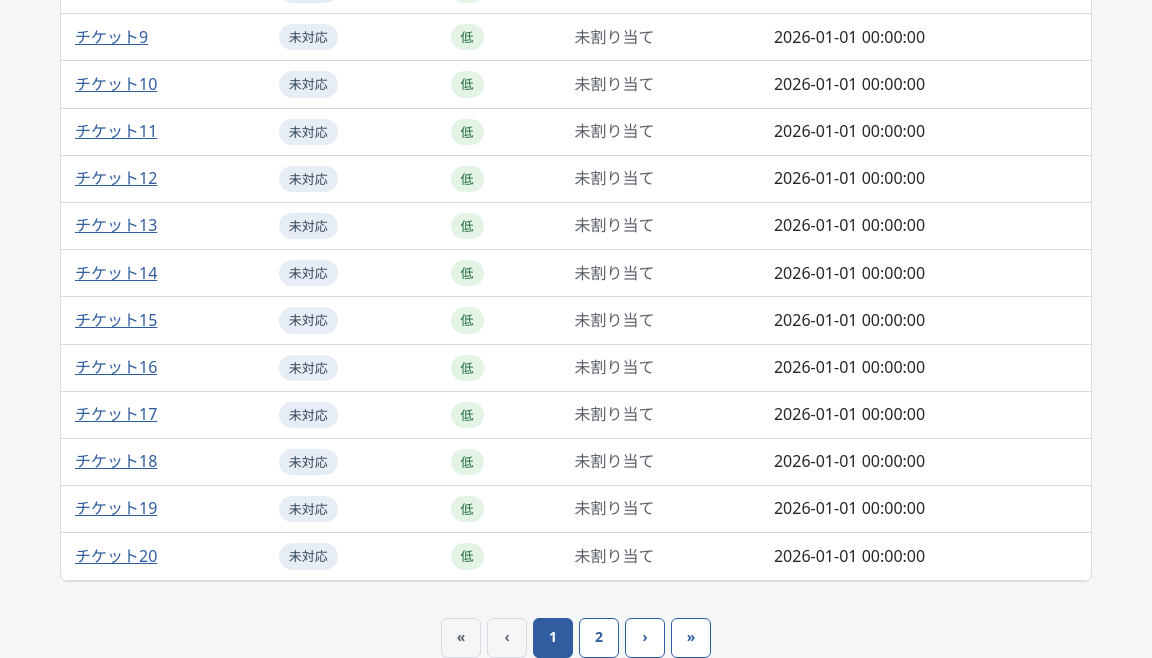
Scenario: TicketListPage › ページ番号ボタンをクリックするとURLのpageクエリが更新され該当ページを取得する
The image size is (1152, 658).
(page scrolled)
Click the button named "2ページへ". click: click(599, 638)
box: [579,618,619,657]
(page scrolled)
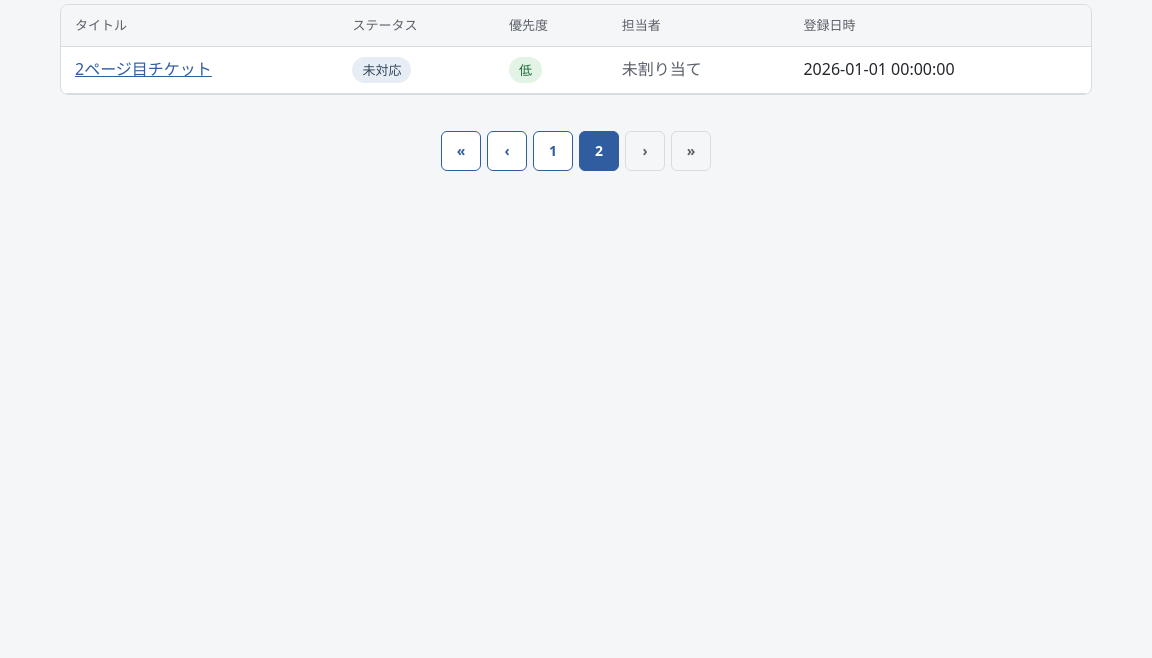
Result: the link "2ページ目チケット" is shown at [75,58,212,80]
